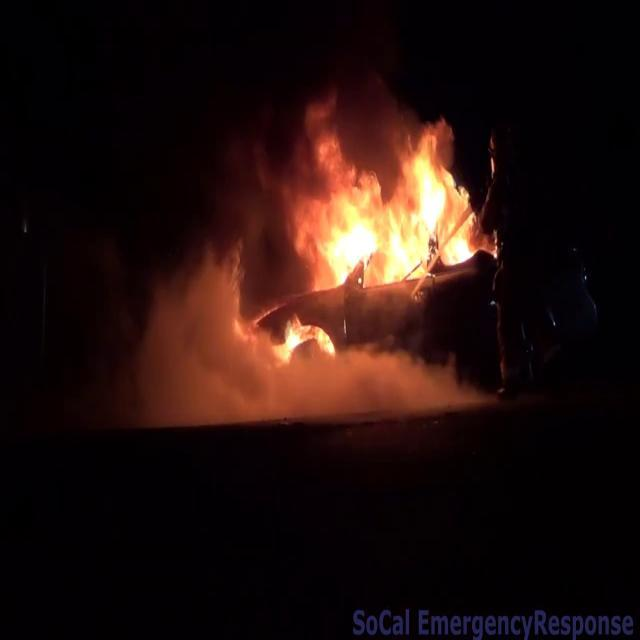Fire: (273, 96, 487, 292)
Smoke: (133, 275, 361, 417)
